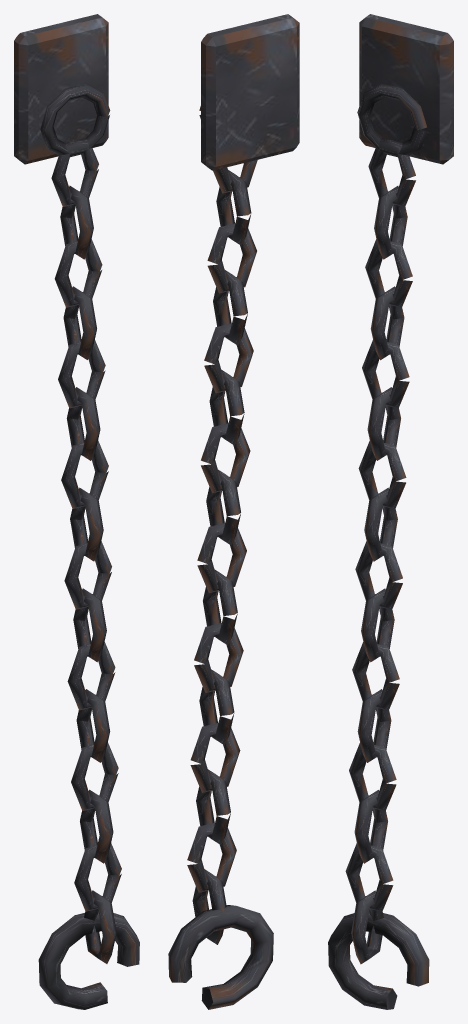
Rendered from dng_chain.glb.
The picture shows the model from 3 angles, left to right: view 1: azimuth 30°, elevation 25°; view 2: azimuth 210°, elevation 25°; view 3: azimuth 330°, elevation 25°; orthographic projection. The views are drawn at different scales.
Visible parts, largest first — view 1: dng_chain; view 2: dng_chain; view 3: dng_chain.
Boxes of the visible parts, bbox=[...] form: dng_chain: bbox=[14, 14, 139, 1009]; dng_chain: bbox=[168, 14, 299, 1009]; dng_chain: bbox=[328, 14, 453, 1009].
Size of the model in its own units: 0.2405 by 2.25 by 0.2475.
1 material, 1 textured.
